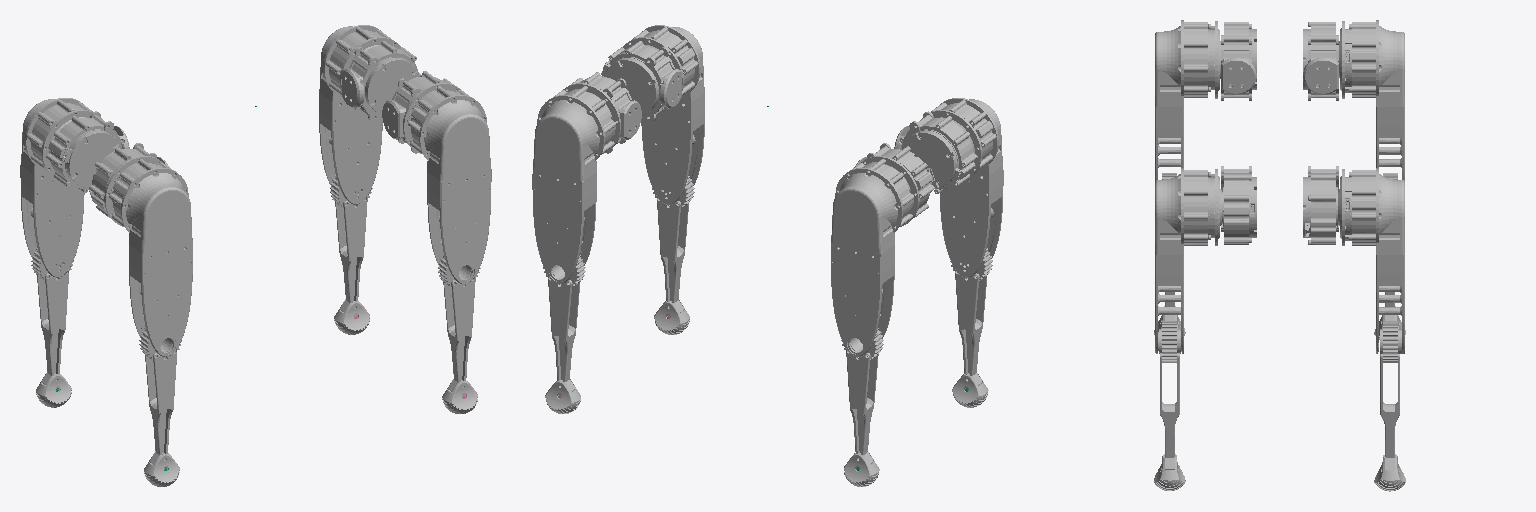
--- Facts derived from the render (not from the file) ---
Views: 3 orthographic renders of the robot side by side, from view 1: azimuth 30°, elevation 25°; view 2: azimuth 150°, elevation 25°; view 3: azimuth 270°, elevation 25°.
Model openpaws_description with 19 links and 18 joints (12 revolute, 6 fixed), rooted at base_link, posed all joints at 0.
Links seen in each view (by area): view 1: rf_upper_leg_link, rh_upper_leg_link, lh_upper_leg_link, lf_upper_leg_link, lh_hip_link, lf_hip_link, rf_lower_leg_link, rh_lower_leg_link, lh_lower_leg_link, lf_lower_leg_link, rf_hip_link, rh_hip_link; view 2: lf_upper_leg_link, lh_upper_leg_link, rh_upper_leg_link, rf_upper_leg_link, rf_hip_link, rh_hip_link, lh_lower_leg_link, lf_lower_leg_link, rh_lower_leg_link, rf_lower_leg_link, lf_hip_link, lh_hip_link; view 3: lf_upper_leg_link, rf_upper_leg_link, lh_upper_leg_link, rh_upper_leg_link, lh_hip_link, rh_hip_link, lf_hip_link, rf_hip_link, lf_lower_leg_link, rf_lower_leg_link.
Link boxes in pixels (<box>): rf_upper_leg_link: <box>403,83,491,283</box>; rh_upper_leg_link: <box>104,156,192,356</box>; lh_upper_leg_link: <box>20,98,101,277</box>; lf_upper_leg_link: <box>319,25,400,204</box>; lh_hip_link: <box>46,111,129,192</box>; lf_hip_link: <box>342,41,422,121</box>; rf_lower_leg_link: <box>438,255,480,413</box>; rh_lower_leg_link: <box>139,328,181,486</box>; lh_lower_leg_link: <box>31,248,73,407</box>; lf_lower_leg_link: <box>330,175,372,334</box>; rf_hip_link: <box>382,71,456,153</box>; rh_hip_link: <box>89,143,168,217</box>; lf_upper_leg_link: <box>532,83,620,283</box>; lh_upper_leg_link: <box>831,156,919,356</box>; rh_upper_leg_link: <box>922,98,1003,277</box>; rf_upper_leg_link: <box>623,25,704,204</box>; rf_hip_link: <box>601,41,681,121</box>; rh_hip_link: <box>894,111,977,193</box>; lh_lower_leg_link: <box>841,328,883,486</box>; lf_lower_leg_link: <box>543,255,585,413</box>; rh_lower_leg_link: <box>950,248,992,407</box>; rf_lower_leg_link: <box>652,176,694,334</box>; lf_hip_link: <box>567,72,641,153</box>; lh_hip_link: <box>855,143,934,217</box>; lf_upper_leg_link: <box>1338,168,1404,353</box>; rf_upper_leg_link: <box>1155,168,1221,353</box>; lh_upper_leg_link: <box>1339,20,1404,180</box>; rh_upper_leg_link: <box>1155,20,1220,180</box>; lh_hip_link: <box>1303,22,1338,100</box>; rh_hip_link: <box>1221,22,1256,100</box>; lf_hip_link: <box>1303,166,1338,244</box>; rf_hip_link: <box>1221,166,1256,244</box>; lf_lower_leg_link: <box>1374,321,1405,491</box>; rf_lower_leg_link: <box>1154,321,1185,490</box>.
Bounding box of the posed robot: 0.4425 × 0.2611 × 0.3615 m (x, y, z).
12 mesh visuals loaded from 13 distinct referenced files (12 binary STL); not drawn: 1 (reference not matched to a file when rendering).

The robot description file, URDF, robot "openpaws_description":
<?xml version="1.0" encoding="utf-8"?>
<!-- This URDF was automatically created by SolidWorks to URDF Exporter! Originally created by Stephen Brawner ([email redacted]) 
     Commit Version: 1.6.0-4-g7f85cfe  Build Version: 1.6.7995.38578
     For more information, please see http://wiki.ros.org/sw_urdf_exporter -->
<robot
  name="openpaws_description">
<!-- Base Link -->
  <link
    name="base_link">
    <visual>
      <origin
        xyz="0 0 0"
        rpy="0 0 0" />
      <geometry>
        <mesh
          filename="package://openpaws_description/meshes/base_link.STL" />
      </geometry>
      <material
        name="">
        <color
          rgba="0.75294 0.75294 0.75294 1" />
      </material>
    </visual>
    <collision>
      <origin
        xyz="0 0 0"
        rpy="0 0 0" />
      <geometry>
        <box size="0.27 0.17 0.08"/>
        <!-- <mesh
          filename="package://openpaws_description/meshes/base_link.STL" /> -->
      </geometry>
    </collision>
  </link>
  <link name="base_inertia">
    <inertial>
      <origin
        xyz="-0.00018141 3.9183E-05 0.00029607"
        rpy="0 0 0" />
      <mass value="3.55"/>
      <inertia ixx="0.001113" iyy="0.002369" izz="0.003094" ixy="0" ixz="0" iyz="0"/>
      <!-- <mass
        value="0.69223" />
      <inertia
        ixx="0.00073815"
        ixy="-6.5961E-07"
        ixz="-9.0799E-09"
        iyy="0.0010335"
        iyz="-1.3086E-07"
        izz="0.0011626" /> -->
    </inertial>
  </link>
  <joint name="base_link_to_base_inertia" type="fixed">
    <parent link="base_link"/>
    <child link="base_inertia"/>
    <origin rpy="0 0 0" xyz="0 0 0"/>
  </joint>
  <gazebo reference="base_link">
    <material>Gazebo/FlatBlack</material>
    <mu1>0.8</mu1>
    <mu2>0.8</mu2>
    <kp>50000.0</kp>
    <kd>5000.0</kd>
  </gazebo>
<!-- IMU -->
  <gazebo>
    <plugin filename="libhector_gazebo_ros_imu.so" name="imu_controller">
      <updateRate>50.0</updateRate>
      <bodyName>imu_link</bodyName>
      <topicName>imu/data</topicName>
      <accelDrift>0.005 0.005 0.005</accelDrift>
      <accelGaussianNoise>0.005 0.005 0.005</accelGaussianNoise>
      <rateDrift>0.005 0.005 0.005 </rateDrift>
      <rateGaussianNoise>0.005 0.005 0.005 </rateGaussianNoise>
      <headingDrift>0.005</headingDrift>
      <headingGaussianNoise>0.005</headingGaussianNoise>
    </plugin>
  </gazebo>
  <link name="imu_link">
    <inertial>
      <mass value="0.001"/>
      <origin rpy="0 0 0" xyz="0 0 0"/>
      <inertia ixx="0.0001" ixy="0" ixz="0" iyy="0.0001" iyz="0" izz="0.0001"/>
    </inertial>
    <visual>
      <origin rpy="0 0 0" xyz="0 0 0"/>
      <geometry>
        <box size="0.001 0.001 0.001"/>
      </geometry>
    </visual>
    <collision>
      <origin rpy="0 0 0" xyz="0 0 0"/>
      <geometry>
        <box size=".001 .001 .001"/>
      </geometry>
    </collision>
  </link>
  <joint name="imu_joint" type="fixed">
    <parent link="base_link"/>
    <child link="imu_link"/>
    <origin rpy="0 0 0" xyz="0 0 0.03"/>
  </joint>

<!-- Left Front leg -->
  <link
    name="lf_hip_link">
    <inertial>
      <!-- <origin
        xyz="-0.0019983 -0.0011206 -0.00012665"
        rpy="0 0 0" />
      <mass
        value="0.12065" />
      <inertia
        ixx="4.4258E-05"
        ixy="-7.5679E-08"
        ixz="3.6198E-07"
        iyy="7.6774E-05"
        iyz="9.0227E-09"
        izz="4.3197E-05" /> -->
      <origin
        xyz="-0.0005276 -0.00109 -0.00013426"
        rpy="0 0 0" />
      <mass
        value="0.313" />
      <inertia
        ixx="0.00012626"
        ixy="0.00000026"
        ixz="-0.00000132"
        iyy="0.00021411"
        iyz="0.00000009"
        izz="0.00013665" />
    </inertial>
    <visual>
      <origin
        xyz="0 0 0"
        rpy="0 0 0" />
      <geometry>
        <mesh
          filename="package://openpaws_description/meshes/lf_hip_link.STL" />
      </geometry>
      <material
        name="">
        <color
          rgba="0.75294 0.75294 0.75294 1" />
      </material>
    </visual>
    <collision>
      <origin
        xyz="0 0 0"
        rpy="1.57079632679 0 0" />
      <geometry>
        <cylinder length="0.035" radius="0.04"/>
        <!-- <mesh
          filename="package://openpaws_description/meshes/lf_hip_link.STL" /> -->
      </geometry>
    </collision>
  </link>
  <gazebo reference="lf_hip_link">
    <material>Gazebo/FlatBlack</material>
    <mu1>0.8</mu1>
    <mu2>0.8</mu2>
    <kp>50000.0</kp>
    <kd>5000.0</kd>    
  </gazebo>  
  <joint
    name="lf_hip_joint"
    type="revolute">
    <dynamics damping="0.3" friction="0.3"/>
    <origin
      xyz="0.18082 0.045002 -0.00025"
      rpy="0 0 0" />
    <parent
      link="base_link" />
    <child
      link="lf_hip_link" />
    <axis
      xyz="1 0 0" />
    <limit
      lower="-0.68"
      upper="0.68"
      effort="12"
      velocity="30.997" />
  </joint>
  <link
    name="lf_upper_leg_link">
    <inertial>
      <!-- <origin
        xyz="0.00020023 -0.018818 -0.018458"
        rpy="0 0 0" />
      <mass
        value="0.20863" />
      <inertia
        ixx="0.00011971"
        ixy="-1.8179E-08"
        ixz="-4.4273E-07"
        iyy="0.00018631"
        iyz="2.143E-06"
        izz="8.7924E-05" /> -->
      <origin
        xyz="0.000258 -0.02363594 -0.0091742"
        rpy="0 0 0" />
      <mass value="0.463"/>
      <inertia 
          ixx="0.00091440" 
          ixy="-0.00000337" 
          ixz="0.00000146" 
          iyy="0.00070907" 
          iyz="-0.00000095" 
          izz="0.00053267"/>
    </inertial>
    <visual>
      <origin
        xyz="0 0 0"
        rpy="0 0 0" />
      <geometry>
        <mesh
          filename="package://openpaws_description/meshes/lf_upper_leg_link.STL" />
      </geometry>
      <material
        name="">
        <color
          rgba="0.75294 0.75294 0.75294 1" />
      </material>
    </visual>
    <collision>
      <origin
        xyz="0 0 0"
        rpy="0 0 0" />
      <geometry>
        <mesh
          filename="package://openpaws_description/meshes/lf_upper_leg_link.STL" />
      </geometry>
    </collision>
  </link>
  <gazebo reference="lf_upper_leg_link">
    <material>Gazebo/FlatBlack</material>
    <mu1>0.8</mu1>
    <mu2>0.8</mu2>
    <kp>50000.0</kp>
    <kd>5000.0</kd>    
  </gazebo>  
  <joint
    name="lf_upper_leg_joint"
    type="revolute">
    <dynamics damping="0.3" friction="0.3"/>
    <origin
      xyz="0 0.068899 0"
      rpy="0 0 0" />
    <parent
      link="lf_hip_link" />
    <child
      link="lf_upper_leg_link" />
    <axis
      xyz="0 1 0" />
    <limit
      lower="-1.3264"
      upper="2.7925"
      effort="12"
      velocity="30.997" />
  </joint>
  <link
    name="lf_lower_leg_link">
    <inertial>
      <!-- <origin
        xyz="0 0 -0.078428"
        rpy="0 0 0" />
      <mass
        value="0.047074" />
      <inertia
        ixx="3.0882E-05"
        ixy="-3.6853E-11"
        ixz="2.2026E-07"
        iyy="3.2931E-05"
        iyz="-4.6457E-10"
        izz="5.6472E-06" /> -->
      <!-- <mass value="0.2"/>
      <inertia 
          ixx="0.00015" 
          ixy="0" 
          ixz="0" 
          iyy="0.00015" 
          iyz="0" 
          izz="0.00002"/> -->
      <origin
        xyz="0.00068626 0.00003472 -0.07842768"
        rpy="0 0 0" />
      <mass value="0.05"/>
      <inertia 
          ixx="0.00053484" 
          ixy="0" 
          ixz="-0.00000461" 
          iyy="0.00053705" 
          iyz="0" 
          izz="0.00000604"/>          
    </inertial>
    <visual>
      <origin
        xyz="0 0 0"
        rpy="0 0 0" />
      <geometry>
        <mesh
          filename="package://openpaws_description/meshes/lf_lower_leg_link.STL" />
      </geometry>
      <material
        name="">
        <color
          rgba="0.75294 0.75294 0.75294 1" />
      </material>
    </visual>
    <collision>
      <origin
        xyz="0 0 -0.0725"
        rpy="0 0 0" />
      <geometry>
        <box size="0.02 0.02 0.15"/>
        <!-- <mesh
          filename="package://openpaws_description/meshes/lf_lower_leg_link.STL" /> -->
      </geometry>
    </collision>
  </link>
  <gazebo reference="lf_lower_leg_link">
    <kp>50000.0</kp>
    <kd>5000.0</kd>    
    <mu1>0.8</mu1>
    <mu2>0.8</mu2>
    <maxVel>0.0</maxVel>
    <minDepth>0.001</minDepth>
    <material>Gazebo/FlatBlack</material>
  </gazebo>  
  <joint
    name="lf_lower_leg_joint"
    type="revolute">
    <dynamics damping="0.3" friction="0.3"/>
    <origin
      xyz="0.00025731 0 -0.153"
      rpy="0 0 0" />
    <parent
      link="lf_upper_leg_link" />
    <child
      link="lf_lower_leg_link" />
    <axis
      xyz="0 1 0" />
    <limit
      lower="-2.5307"
      upper="0"
      effort="12"
      velocity="30.997" />
  </joint>
  <link name="lf_foot_link">
    <visual>
      <origin rpy="0 0 0" xyz="0 0 0"/>
      <geometry>
        <sphere radius="0.009"/>
      </geometry>
      <material name="orange"/>
    </visual>
    <collision>
      <origin rpy="0 0 0" xyz="0 0 0"/>
      <geometry>
        <sphere radius="0.019"/>
      </geometry>
    </collision>
  </link>
  <joint name="lf_foot_joint" type="fixed">
    <parent link="lf_lower_leg_link"/>
    <child link="lf_foot_link"/>
    <origin rpy="0 0 0" xyz="0 0 -0.15"/>
  </joint>  
  <gazebo reference="lf_foot_link">
    <mu1>0.8</mu1>
    <mu2>0.8</mu2>
    <material>Gazebo/DarkGrey</material>
    <kp value="50000.0"/>
    <kd value="5000.0"/>
  </gazebo>
  <!-- <gazebo reference="lf_foot_link">
    <sensor name="lf_foot_contact" type="contact">
      <always_on>true</always_on>
      <update_rate>100.0</update_rate>
      <plugin name="lf_foot_bumper" filename="libgazebo_ros_bumper.so">
        <bumperTopicName>lf_foot_contacts</bumperTopicName>
        <frameName>lf_foot_link</frameName>
      </plugin>      
      <contact>
        <collision>lf_foot_link_collision</collision>
      </contact>
    </sensor>
  </gazebo>   -->
  <transmission name="lf_hip_joint_trans">
    <type>transmission_interface/SimpleTransmission</type>
    <joint name="lf_hip_joint">
      <hardwareInterface>hardware_interface/EffortJointInterface</hardwareInterface>
    </joint>
    <actuator name="lf_hip_joint_motor">
      <hardwareInterface>hardware_interface/EffortJointInterface</hardwareInterface>
      <mechanicalReduction>7.75</mechanicalReduction>
    </actuator>
  </transmission>
  <transmission name="lf_upper_leg_joint_trans">
    <type>transmission_interface/SimpleTransmission</type>
    <joint name="lf_upper_leg_joint">
      <hardwareInterface>hardware_interface/EffortJointInterface</hardwareInterface>
    </joint>
    <actuator name="lf_upper_leg_joint_motor">
      <hardwareInterface>hardware_interface/EffortJointInterface</hardwareInterface>
      <mechanicalReduction>7.75</mechanicalReduction>
    </actuator>
  </transmission>
  <transmission name="lf_lower_leg_joint_trans">
    <type>transmission_interface/SimpleTransmission</type>
    <joint name="lf_lower_leg_joint">
      <hardwareInterface>hardware_interface/EffortJointInterface</hardwareInterface>
    </joint>
    <actuator name="lf_lower_joint_motor">
      <hardwareInterface>hardware_interface/EffortJointInterface</hardwareInterface>
      <mechanicalReduction>7.75</mechanicalReduction>
    </actuator>
  </transmission>
<!-- Left Hind Leg -->
  <link
    name="lh_hip_link">
    <inertial>
      <!-- <origin
        xyz="0.0019984 -0.0011159 0.00012665"
        rpy="0 0 0" />
      <mass
        value="0.12065" />
      <inertia
        ixx="4.4258E-05"
        ixy="7.4177E-08"
        ixz="3.6198E-07"
        iyy="7.6774E-05"
        iyz="-9.006E-09"
        izz="4.3197E-05" /> -->
      <origin
        xyz="0.0005276 -0.00109 0.00013426"
        rpy="0 0 0" />
      <mass
        value="0.313" />
      <inertia
        ixx="0.00012626"
        ixy="-0.00000025"
        ixz="-0.00000132"
        iyy="0.00021411"
        iyz="-0.00000009"
        izz="0.00013665" />
    </inertial>
    <visual>
      <origin
        xyz="0 0 0"
        rpy="0 0 0" />
      <geometry>
        <mesh
          filename="package://openpaws_description/meshes/lh_hip_link.STL" />
      </geometry>
      <material
        name="">
        <color
          rgba="0.75294 0.75294 0.75294 1" />
      </material>
    </visual>
    <collision>
      <origin
        xyz="0 0 0"
        rpy="1.57079632679 0 0" />
      <geometry>
        <cylinder length="0.035" radius="0.04"/>
        <!-- <mesh
          filename="package://openpaws_description/meshes/lh_hip_link.STL" /> -->
      </geometry>
    </collision>
  </link>
  <gazebo reference="lh_hip_link">
    <material>Gazebo/FlatBlack</material>
    <mu1>0.8</mu1>
    <mu2>0.8</mu2>
    <kp>50000.0</kp>
    <kd>5000.0</kd>
  </gazebo>  
  <joint
    name="lh_hip_joint"
    type="revolute">
    <dynamics damping="0.3" friction="0.3"/>
    <origin
      xyz="-0.18082 0.044993 -0.00025"
      rpy="0 0 0" />
    <parent
      link="base_link" />
    <child
      link="lh_hip_link" />
    <axis
      xyz="1 0 0" />
    <limit
      lower="-0.68"
      upper="0.68"
      effort="12"
      velocity="30.997" />
  </joint>
  <link
    name="lh_upper_leg_link">
    <inertial>
      <!-- <origin
        xyz="0.00020002 -0.018818 -0.018458"
        rpy="0 0 0" />
      <mass
        value="0.20863" />
      <inertia
        ixx="0.00011971"
        ixy="-1.8156E-08"
        ixz="-4.4308E-07"
        iyy="0.00018631"
        iyz="2.143E-06"
        izz="8.7924E-05" /> -->
      <origin
        xyz="0.000258 -0.02363594 -0.0091742"
        rpy="0 0 0" />
      <mass value="0.463"/>
      <inertia 
          ixx="0.00091440" 
          ixy="-0.00000337" 
          ixz="0.00000146" 
          iyy="0.00070907" 
          iyz="-0.00000095" 
          izz="0.00053267"/>
    </inertial>
    <visual>
      <origin
        xyz="0 0 0"
        rpy="0 0 0" />
      <geometry>
        <mesh
          filename="package://openpaws_description/meshes/lh_upper_leg_link.STL" />
      </geometry>
      <material
        name="">
        <color
          rgba="0.75294 0.75294 0.75294 1" />
      </material>
    </visual>
    <collision>
      <origin
        xyz="0 0 0"
        rpy="0 0 0" />
      <geometry>
        <mesh
          filename="package://openpaws_description/meshes/lh_upper_leg_link.STL" />
      </geometry>
    </collision>
  </link>
  <gazebo reference="lh_upper_leg_link">
    <material>Gazebo/FlatBlack</material>
    <mu1>0.8</mu1>
    <mu2>0.8</mu2>
    <kp>50000.0</kp>
    <kd>5000.0</kd>    
  </gazebo>  
  <joint
    name="lh_upper_leg_joint"
    type="revolute">
    <dynamics damping="0.3" friction="0.3"/>
    <origin
      xyz="0 0.068904 0"
      rpy="0 0 0" />
    <parent
      link="lh_hip_link" />
    <child
      link="lh_upper_leg_link" />
    <axis
      xyz="0 1 0" />
    <limit
      lower="-0.9773"
      upper="3.1415"
      effort="12"
      velocity="30.997" />
  </joint>
  <link
    name="lh_lower_leg_link">
    <inertial>
      <!-- <origin
        xyz="0 0 -0.078428"
        rpy="0 0 0" />
      <mass
        value="0.047074" />
      <inertia
        ixx="3.0882E-05"
        ixy="-3.6859E-11"
        ixz="2.2026E-07"
        iyy="3.2931E-05"
        iyz="-4.6457E-10"
        izz="5.6472E-06" /> -->
      <!-- <mass value="0.2"/>
      <inertia 
          ixx="0.00015" 
          ixy="0" 
          ixz="0" 
          iyy="0.00015" 
          iyz="0" 
          izz="0.00002"/> -->
      <origin
        xyz="0.00068626 0.00003472 -0.07842768"
        rpy="0 0 0" />    
      <mass value="0.05"/>
      <inertia 
          ixx="0.00053484" 
          ixy="0" 
          ixz="-0.00000461" 
          iyy="0.00053705" 
          iyz="0" 
          izz="0.00000604"/>           
    </inertial>
    <visual>
      <origin
        xyz="0 0 0"
        rpy="0 0 0" />
      <geometry>
        <mesh
          filename="package://openpaws_description/meshes/lh_lower_leg_link.STL" />
      </geometry>
      <material
        name="">
        <color
          rgba="0.75294 0.75294 0.75294 1" />
      </material>
    </visual>
    <collision>
      <origin
        xyz="0 0 -0.0725"
        rpy="0 0 0" />
      <geometry>
        <box size="0.02 0.02 0.15"/>
        <!-- <mesh
          filename="package://openpaws_description/meshes/lh_lower_leg_link.STL" /> -->
      </geometry>
    </collision>
  </link>
  <gazebo reference="lh_lower_leg_link">
    <kp>50000.0</kp>
    <kd>5000.0</kd>
    <mu1>0.8</mu1>
    <mu2>0.8</mu2>
    <maxVel>0.0</maxVel>
    <minDepth>0.001</minDepth>
    <material>Gazebo/FlatBlack</material>
  </gazebo>  
  <joint
    name="lh_lower_leg_joint"
    type="revolute">
    <dynamics damping="0.3" friction="0.3"/>
    <origin
      xyz="0.00025564 0 -0.153"
      rpy="0 0 0" />
    <parent
      link="lh_upper_leg_link" />
    <child
      link="lh_lower_leg_link" />
    <axis
      xyz="0 1 0" />
    <limit
      lower="-2.5307"
      upper="0"
      effort="12"
      velocity="30.997" />
  </joint>
  <link name="lh_foot_link">
    <visual>
      <origin rpy="0 0 0" xyz="0 0 0"/>
      <geometry>
        <sphere radius="0.009"/>
      </geometry>
      <material name="orange"/>
    </visual>
    <collision>
      <origin rpy="0 0 0" xyz="0 0 0"/>
      <geometry>
        <sphere radius="0.019"/>
      </geometry>
    </collision>
  </link>
  <joint name="lh_foot_joint" type="fixed">
    <parent link="lh_lower_leg_link"/>
    <child link="lh_foot_link"/>
    <origin rpy="0 0 0" xyz="0 0 -0.15"/>
  </joint>
  <gazebo reference="lh_foot_link">
    <mu1>0.8</mu1>
    <mu2>0.8</mu2>
    <material>Gazebo/DarkGrey</material>
    <kp value="50000.0"/>
    <kd value="5000.0"/>
  </gazebo>
  <!-- <gazebo reference="lh_foot_link">
    <sensor name="lh_foot_contact" type="contact">
      <always_on>true</always_on>
      <update_rate>100.0</update_rate>
      <plugin name="lh_foot_bumper" filename="libgazebo_ros_bumper.so">
        <bumperTopicName>lh_foot_contacts</bumperTopicName>
        <frameName>lh_foot_link</frameName>
      </plugin>       
      <contact>
        <collision>lh_foot_link_collision</collision>
      </contact>
    </sensor>
  </gazebo>     -->
  <transmission name="lh_hip_joint_trans">
    <type>transmission_interface/SimpleTransmission</type>
    <joint name="lh_hip_joint">
      <hardwareInterface>hardware_interface/EffortJointInterface</hardwareInterface>
    </joint>
    <actuator name="lh_hip_joint_motor">
      <hardwareInterface>hardware_interface/EffortJointInterface</hardwareInterface>
      <mechanicalReduction>7.75</mechanicalReduction>
    </actuator>
  </transmission>
  <transmission name="lh_upper_leg_joint_trans">
    <type>transmission_interface/SimpleTransmission</type>
    <joint name="lh_upper_leg_joint">
      <hardwareInterface>hardware_interface/EffortJointInterface</hardwareInterface>
    </joint>
    <actuator name="lh_upper_leg_joint_motor">
      <hardwareInterface>hardware_interface/EffortJointInterface</hardwareInterface>
      <mechanicalReduction>7.75</mechanicalReduction>
    </actuator>
  </transmission>
  <transmission name="lh_lower_leg_joint_trans">
    <type>transmission_interface/SimpleTransmission</type>
    <joint name="lh_lower_leg_joint">
      <hardwareInterface>hardware_interface/EffortJointInterface</hardwareInterface>
    </joint>
    <actuator name="lh_lower_joint_motor">
      <hardwareInterface>hardware_interface/EffortJointInterface</hardwareInterface>
      <mechanicalReduction>7.75</mechanicalReduction>
    </actuator>
  </transmission>  
<!-- Right Front leg -->  
  <link
    name="rf_hip_link">
    <inertial>
      <!-- <origin
        xyz="-0.0019984 0.0011181 0.00012665"
        rpy="0 0 0" />
      <mass
        value="0.12065" />
      <inertia
        ixx="4.4258E-05"
        ixy="7.4177E-08"
        ixz="-3.6198E-07"
        iyy="7.6774E-05"
        iyz="9.006E-09"
        izz="4.3197E-05" /> -->
      <origin
        xyz="0.0005276 -0.00109 0.00013426"
        rpy="0 0 0" />
      <mass
        value="0.313" />
      <inertia
        ixx="0.00012626"
        ixy="-0.00000025"
        ixz="0.00000132"
        iyy="0.00021411"
        iyz="0.00000009"
        izz="0.00013665" />
    </inertial>
    <visual>
      <origin
        xyz="0 0 0"
        rpy="0 0 0" />
      <geometry>
        <mesh
          filename="package://openpaws_description/meshes/rf_hip_link.STL" />
      </geometry>
      <material
        name="">
        <color
          rgba="0.75294 0.75294 0.75294 1" />
      </material>
    </visual>
    <collision>
      <origin
        xyz="0 0 0"
        rpy="1.57079632679 0 0" />
      <geometry>
        <cylinder length="0.035" radius="0.04"/>
        <!-- <mesh
          filename="package://openpaws_description/meshes/rf_hip_link.STL" /> -->
      </geometry>
    </collision>
  </link>
  <gazebo reference="rf_hip_link">
    <material>Gazebo/FlatBlack</material>
    <mu1>0.8</mu1>
    <mu2>0.8</mu2>
    <kp>50000.0</kp>
    <kd>5000.0</kd>    
  </gazebo>  
  <joint
    name="rf_hip_joint"
    type="revolute">
    <dynamics damping="0.3" friction="0.3"/>
    <origin
      xyz="0.18082 -0.044998 -0.00025"
      rpy="0 0 0" />
    <parent
      link="base_link" />
    <child
      link="rf_hip_link" />
    <axis
      xyz="1 0 0" />
    <limit
      lower="-0.68"
      upper="0.68"
      effort="12"
      velocity="30.997" />
  </joint>
  <link
    name="rf_upper_leg_link">
    <inertial>
      <!-- <origin
        xyz="-0.00020002 0.018818 -0.018458"
        rpy="0 0 0" />
      <mass
        value="0.20863" />
      <inertia
        ixx="0.00011971"
        ixy="-1.8156E-08"
        ixz="4.4308E-07"
        iyy="0.00018631"
        iyz="-2.143E-06"
        izz="8.7924E-05" /> -->
      <origin
        xyz="-0.000258 0.02363594 -0.0091742"
        rpy="0 0 0" />
      <mass value="0.463"/>
      <inertia 
          ixx="0.00091440" 
          ixy="-0.00000337" 
          ixz="-0.00000146" 
          iyy="0.00070907" 
          iyz="0.00000095" 
          izz="0.00053267"/>
    </inertial>
    <visual>
      <origin
        xyz="0 0 0"
        rpy="0 0 0" />
      <geometry>
        <mesh
          filename="package://openpaws_description/meshes/rf_upper_leg_link.STL" />
      </geometry>
      <material
        name="">
        <color
          rgba="0.75294 0.75294 0.75294 1" />
      </material>
    </visual>
    <collision>
      <origin
        xyz="0 0 0"
        rpy="0 0 0" />
      <geometry>
        <mesh
          filename="package://openpaws_description/meshes/rf_upper_leg_link.STL" />
      </geometry>
    </collision>
  </link>
  <gazebo reference="rf_upper_leg_link">
    <material>Gazebo/FlatBlack</material>
    <mu1>0.8</mu1>
    <mu2>0.8</mu2>
    <kp>50000.0</kp>
    <kd>5000.0</kd>    
  </gazebo>  
  <joint
    name="rf_upper_leg_joint"
    type="revolute">
    <dynamics damping="0.3" friction="0.3"/>
    <origin
      xyz="0 -0.068901 0"
      rpy="0 0 0" />
    <parent
      link="rf_hip_link" />
    <child
      link="rf_upper_leg_link" />
    <axis
      xyz="0 1 0" />
    <limit
      lower="-1.3264"
      upper="2.7925"
      effort="12"
      velocity="30.997" />
  </joint>
  <link
    name="rf_lower_leg_link">
    <inertial>
      <!-- <origin
        xyz="0 0 -0.078428"
        rpy="0 0 0" />
      <mass
        value="0.047074" />
      <inertia
        ixx="3.0882E-05"
        ixy="-3.6858E-11"
        ixz="2.2026E-07"
        iyy="3.2931E-05"
        iyz="-4.6457E-10"
        izz="5.6472E-06" /> -->
      <!-- <mass value="0.2"/>
      <inertia 
          ixx="0.00015" 
          ixy="0" 
          ixz="0" 
          iyy="0.00015" 
          iyz="0" 
          izz="0.00002"/> -->
      <origin
        xyz="0.00017331 0.00003471 -0.07842768"
        rpy="0 0 0" />          
      <mass value="0.05"/>
      <inertia 
          ixx="0.00053484" 
          ixy="0" 
          ixz="-0.00000260" 
          iyy="0.00053703" 
          iyz="0" 
          izz="0.00000601"/>           
    </inertial>
    <visual>
      <origin
        xyz="0 0 0"
        rpy="0 0 0" />
      <geometry>
        <mesh
          filename="package://openpaws_description/meshes/rf_lower_leg_link.STL" />
      </geometry>
      <material
        name="">
        <color
          rgba="0.75294 0.75294 0.75294 1" />
      </material>
    </visual>
    <collision>
      <origin
        xyz="0 0 -0.0725"
        rpy="0 0 0" />
      <geometry>
        <box size="0.02 0.02 0.15"/>
        <!-- <mesh
          filename="package://openpaws_description/meshes/rf_lower_leg_link.STL" /> -->
      </geometry>
    </collision>
  </link>
  <gazebo reference="rf_lower_leg_link">
    <kp>50000.0</kp>
    <kd>5000.0</kd>
    <mu1>0.8</mu1>
    <mu2>0.8</mu2>
    <maxVel>0.0</maxVel>
    <minDepth>0.001</minDepth>
    <material>Gazebo/FlatBlack</material>
  </gazebo>  
  <joint
    name="rf_lower_leg_joint"
    type="revolute">
    <dynamics damping="0.3" friction="0.3"/>
    <origin
      xyz="0.00025731 0 -0.153"
      rpy="0 0 0" />
    <parent
      link="rf_upper_leg_link" />
    <child
      link="rf_lower_leg_link" />
    <axis
      xyz="0 1 0" />
    <limit
      lower="-2.5307"
      upper="0"
      effort="12"
      velocity="30.997" />
  </joint>
  <link name="rf_foot_link">
    <visual>
      <origin rpy="0 0 0" xyz="0 0 0"/>
      <geometry>
        <sphere radius="0.009"/>
      </geometry>
      <material name="orange"/>
    </visual>
    <collision>
      <origin rpy="0 0 0" xyz="0 0 0"/>
      <geometry>
        <sphere radius="0.019"/>
      </geometry>
    </collision>
  </link>
  <joint name="rf_foot_joint" type="fixed">
    <parent link="rf_lower_leg_link"/>
    <child link="rf_foot_link"/>
    <origin rpy="0 0 0" xyz="0 0 -0.15"/>
  </joint>
  <gazebo reference="rf_foot_link">
    <mu1>0.8</mu1>
    <mu2>0.8</mu2>
    <material>Gazebo/DarkGrey</material>
    <kp value="50000.0"/>
    <kd value="5000.0"/>
  </gazebo>    
  <!-- <gazebo reference="rf_foot_link">
    <sensor name="rf_foot_contact" type="contact">
      <always_on>true</always_on>
      <update_rate>100.0</update_rate>
      <plugin name="rf_foot_bumper" filename="libgazebo_ros_bumper.so">
        <bumperTopicName>rf_foot_contacts</bumperTopicName>
        <frameName>rf_foot_link</frameName>
      </plugin>       
      <contact>
        <collision>rf_foot_link_collision</collision>
      </contact>
    </sensor>
  </gazebo>     -->
  <transmission name="rf_hip_joint_trans">
    <type>transmission_interface/SimpleTransmission</type>
    <joint name="rf_hip_joint">
      <hardwareInterface>hardware_interface/EffortJointInterface</hardwareInterface>
    </joint>
    <actuator name="rf_hip_joint_motor">
      <hardwareInterface>hardware_interface/EffortJointInterface</hardwareInterface>
      <mechanicalReduction>7.75</mechanicalReduction>
    </actuator>
  </transmission>
  <transmission name="rf_upper_leg_joint_trans">
    <type>transmission_interface/SimpleTransmission</type>
    <joint name="rf_upper_leg_joint">
      <hardwareInterface>hardware_interface/EffortJointInterface</hardwareInterface>
    </joint>
    <actuator name="rf_upper_leg_joint_motor">
      <hardwareInterface>hardware_interface/EffortJointInterface</hardwareInterface>
      <mechanicalReduction>7.75</mechanicalReduction>
    </actuator>
  </transmission>
  <transmission name="rf_lower_leg_joint_trans">
    <type>transmission_interface/SimpleTransmission</type>
    <joint name="rf_lower_leg_joint">
      <hardwareInterface>hardware_interface/EffortJointInterface</hardwareInterface>
    </joint>
    <actuator name="rf_lower_joint_motor">
      <hardwareInterface>hardware_interface/EffortJointInterface</hardwareInterface>
      <mechanicalReduction>7.75</mechanicalReduction>
    </actuator>
  </transmission>  
<!-- Right Hind Leg -->
  <link
    name="rh_hip_link">
    <inertial>
      <!-- <origin
        xyz="0.0019983 0.0011229 -0.00012665"
        rpy="0 0 0" />
      <mass
        value="0.12065" />
      <inertia
        ixx="4.4258E-05"
        ixy="-7.5679E-08"
        ixz="-3.6198E-07"
        iyy="7.6774E-05"
        iyz="-9.0227E-09"
        izz="4.3197E-05" /> -->
      <origin
        xyz="0.0005276 -0.00109 0.00013426"
        rpy="0 0 0" />
      <mass
        value="0.313" />
      <inertia
        ixx="0.00012626"
        ixy="0.00000026"
        ixz="0.00000132"
        iyy="0.00021411"
        iyz="-0.00000009"
        izz="0.00013666" />        
    </inertial>
    <visual>
      <origin
        xyz="0 0 0"
        rpy="0 0 0" />
      <geometry>
        <mesh
          filename="package://openpaws_description/meshes/rh_hip_link.STL" />
      </geometry>
      <material
        name="">
        <color
          rgba="0.75294 0.75294 0.75294 1" />
      </material>
    </visual>
    <collision>
      <origin
        xyz="0 0 0"
        rpy="1.57079632679 0 0" />
      <geometry>
        <cylinder length="0.035" radius="0.04"/>
        <!-- <mesh
          filename="package://openpaws_description/meshes/rh_hip_link.STL" /> -->
      </geometry>
    </collision>
  </link>
  <gazebo reference="rh_hip_link">
    <material>Gazebo/FlatBlack</material>
    <mu1>0.8</mu1>
    <mu2>0.8</mu2>
    <kp>50000.0</kp>
    <kd>5000.0</kd>    
  </gazebo>  
  <joint
    name="rh_hip_joint"
    type="revolute">
    <dynamics damping="0.3" friction="0.3"/>
    <origin
      xyz="-0.18082 -0.045007 -0.00025"
      rpy="0 0 0" />
    <parent
      link="base_link" />
    <child
      link="rh_hip_link" />
    <axis
      xyz="1 0 0" />
    <limit
      lower="-0.68"
      upper="0.68"
      effort="12"
      velocity="30.997" />
  </joint>
  <link
    name="rh_upper_leg_link">
    <inertial>
      <!-- <origin
        xyz="-0.00020002 0.018818 -0.018458"
        rpy="0 0 0" />
      <mass
        value="0.20863" />
      <inertia
        ixx="0.00011971"
        ixy="-1.8156E-08"
        ixz="4.4308E-07"
        iyy="0.00018631"
        iyz="-2.143E-06"
        izz="8.7924E-05" /> -->
      <origin
        xyz="-0.000258 0.02363594 -0.0091742"
        rpy="0 0 0" />
      <mass value="0.463"/>
      <inertia 
          ixx="0.00091440" 
          ixy="-0.00000337" 
          ixz="-0.00000146" 
          iyy="0.00070907" 
          iyz="0.00000095" 
          izz="0.00053267"/>
    </inertial>
    <visual>
      <origin
        xyz="0 0 0"
        rpy="0 0 0" />
      <geometry>
        <mesh
          filename="package://openpaws_description/meshes/rh_upper_leg_link.STL" />
      </geometry>
      <material
        name="">
        <color
          rgba="0.75294 0.75294 0.75294 1" />
      </material>
    </visual>
    <collision>
      <origin
        xyz="0 0 0"
        rpy="0 0 0" />
      <geometry>
        <mesh
          filename="package://openpaws_description/meshes/rh_upper_leg_link.STL" />
      </geometry>
    </collision>
  </link>
  <gazebo reference="rh_upper_leg_link">
    <material>Gazebo/FlatBlack</material>
    <mu1>0.8</mu1>
    <mu2>0.8</mu2>
    <kp>50000.0</kp>
    <kd>5000.0</kd>    
  </gazebo>  
  <joint
    name="rh_upper_leg_joint"
    type="revolute">
    <dynamics damping="0.3" friction="0.3"/>
    <origin
      xyz="0 -0.068897 0"
      rpy="0 0 0" />
    <parent
      link="rh_hip_link" />
    <child
      link="rh_upper_leg_link" />
    <axis
      xyz="0 1 0" />
    <limit
      lower="-0.9773"
      upper="3.1415"
      effort="12"
      velocity="30.997" />
  </joint>
  <link
    name="rh_lower_leg_link">
    <inertial>
      <!-- <origin
        xyz="0 0 -0.078428"
        rpy="0 0 0" />
      <mass
        value="0.047074" />
      <inertia
        ixx="3.0882E-05"
        ixy="-3.6854E-11"
        ixz="2.2026E-07"
        iyy="3.2931E-05"
        iyz="-4.6457E-10"
        izz="5.6472E-06" /> -->
      <!-- <mass value="0.2"/>
      <inertia 
          ixx="0.00015" 
          ixy="0" 
          ixz="0" 
          iyy="0.00015" 
          iyz="0" 
          izz="0.00002"/> -->
      <origin
        xyz="0.00017498 0.00003471 -0.07842768"
        rpy="0 0 0" />          
      <mass value="0.05"/>
      <inertia 
          ixx="0.00053484" 
          ixy="0" 
          ixz="-0.00000261" 
          iyy="0.00053703" 
          iyz="0" 
          izz="0.00000601"/>
    </inertial>
    <visual>
      <origin
        xyz="0 0 0"
        rpy="0 0 0" />
      <geometry>
        <mesh
          filename="package://openpaws_description/meshes/rh_lower_leg_link.STL" />
      </geometry>
      <material
        name="">
        <color
          rgba="0.75294 0.75294 0.75294 1" />
      </material>
    </visual>
    <collision>
      <origin
        xyz="0 0 -0.0725"
        rpy="0 0 0" />
      <geometry>
        <box size="0.02 0.02 0.15"/>
        <!-- <mesh
          filename="package://openpaws_description/meshes/rh_lower_leg_link.STL" /> -->
      </geometry>
    </collision>
  </link>
  <gazebo reference="rh_lower_leg_link">
    <kp>50000.0</kp>
    <kd>5000.0</kd>
    <mu1>0.8</mu1>
    <mu2>0.8</mu2>
    <maxVel>0.0</maxVel>
    <minDepth>0.001</minDepth>
    <material>Gazebo/FlatBlack</material>
  </gazebo>  
  <joint
    name="rh_lower_leg_joint"
    type="revolute">
    <dynamics damping="0.3" friction="0.3"/>
    <origin
      xyz="0.00025564 0 -0.153"
      rpy="0 0 0" />
    <parent
      link="rh_upper_leg_link" />
    <child
      link="rh_lower_leg_link" />
    <axis
      xyz="0 1 0" />
    <limit
      lower="-2.5307"
      upper="0"
      effort="12"
      velocity="30.997" />
  </joint>
  <link name="rh_foot_link">
    <visual>
      <origin rpy="0 0 0" xyz="0 0 0"/>
      <geometry>
        <sphere radius="0.009"/>
      </geometry>
      <material name="orange"/>
    </visual>
    <collision>
      <origin rpy="0 0 0" xyz="0 0 0"/>
      <geometry>
        <sphere radius="0.019"/>
      </geometry>
    </collision>
  </link>  
  <joint name="rh_foot_joint" type="fixed">
    <parent link="rh_lower_leg_link"/>
    <child link="rh_foot_link"/>
    <origin rpy="0 0 0" xyz="0 0 -0.15"/>
  </joint>
  <gazebo reference="rh_foot_link">
    <mu1>0.8</mu1>
    <mu2>0.8</mu2>
    <material>Gazebo/DarkGrey</material>
    <kp value="50000.0"/>
    <kd value="5000.0"/>
  </gazebo>
  <!-- <gazebo reference="rh_foot_link">
    <sensor name="rh_foot_contact" type="contact">
      <always_on>true</always_on>
      <update_rate>100.0</update_rate>
      <plugin name="rh_foot_bumper" filename="libgazebo_ros_bumper.so">
        <bumperTopicName>rh_foot_contacts</bumperTopicName>
        <frameName>rh_foot_link</frameName>
      </plugin>       
      <contact>
        <collision>rh_foot_link_collision</collision>
      </contact>
    </sensor>
  </gazebo>     -->
  <transmission name="rh_hip_joint_trans">
    <type>transmission_interface/SimpleTransmission</type>
    <joint name="rh_hip_joint">
      <hardwareInterface>hardware_interface/EffortJointInterface</hardwareInterface>
    </joint>
    <actuator name="rh_hip_joint_motor">
      <hardwareInterface>hardware_interface/EffortJointInterface</hardwareInterface>
      <mechanicalReduction>7.75</mechanicalReduction>
    </actuator>
  </transmission>
  <transmission name="rh_upper_leg_joint_trans">
    <type>transmission_interface/SimpleTransmission</type>
    <joint name="rh_upper_leg_joint">
      <hardwareInterface>hardware_interface/EffortJointInterface</hardwareInterface>
    </joint>
    <actuator name="rh_upper_leg_joint_motor">
      <hardwareInterface>hardware_interface/EffortJointInterface</hardwareInterface>
      <mechanicalReduction>7.75</mechanicalReduction>
    </actuator>
  </transmission>
  <transmission name="rh_lower_leg_joint_trans">
    <type>transmission_interface/SimpleTransmission</type>
    <joint name="rh_lower_leg_joint">
      <hardwareInterface>hardware_interface/EffortJointInterface</hardwareInterface>
    </joint>
    <actuator name="rh_lower_joint_motor">
      <hardwareInterface>hardware_interface/EffortJointInterface</hardwareInterface>
      <mechanicalReduction>7.75</mechanicalReduction>
    </actuator>
  </transmission>
  <gazebo>
    <plugin filename="libgazebo_ros_p3d.so" name="p3d_base_controller">
      <alwaysOn>true</alwaysOn>
      <updateRate>10.0</updateRate>
      <bodyName>base_link</bodyName>
      <topicName>odom/ground_truth</topicName>
      <gaussianNoise>0.01</gaussianNoise>
      <frameName>world</frameName>
      <xyzOffsets>0 0 0</xyzOffsets>
      <rpyOffsets>0 0 0</rpyOffsets>
    </plugin>
  </gazebo>
  <gazebo>
    <plugin filename="libgazebo_ros_control.so" name="gazebo_ros_control">
      <legacyModeNS>true</legacyModeNS>
    </plugin>
  </gazebo>  
</robot>
